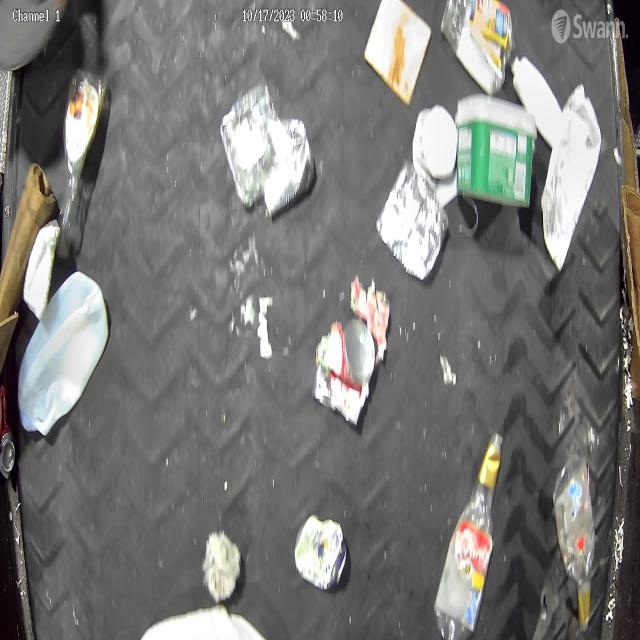milk-jug: (14, 272, 109, 436)
